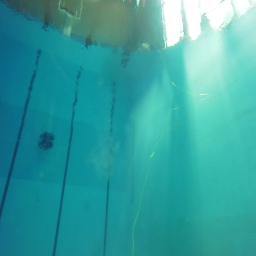Full: (38, 138, 53, 150)
